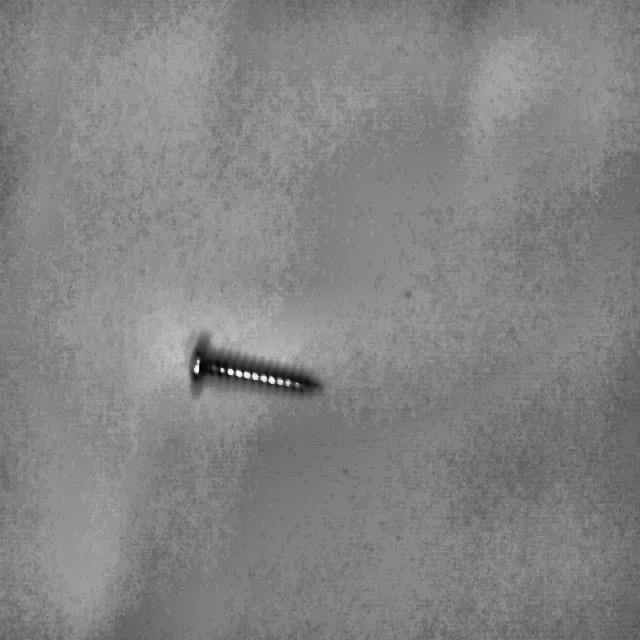Sheet metal screw: (189, 346, 320, 394)
